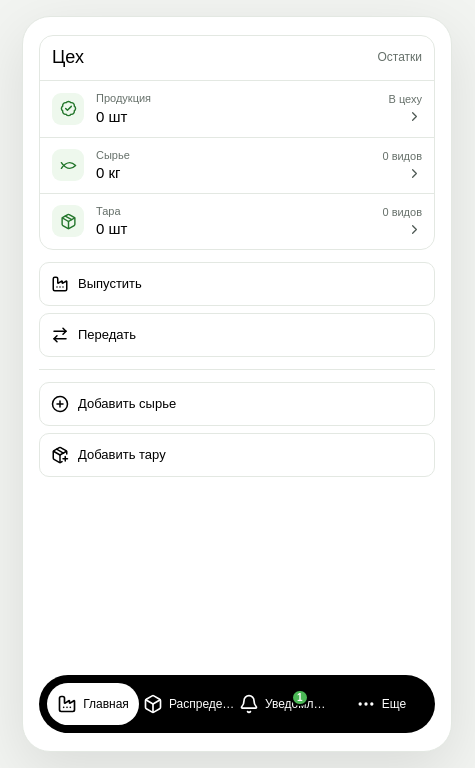
Test case: HomePage › lets production manager complete production notification
Expected: the text with class "bottom-nav-badge" reads "1", [297,692,303,702]
Click the button with aria-label "Уведомления, новых задач: 1".
click(285, 704)  # box [239,683,331,725]
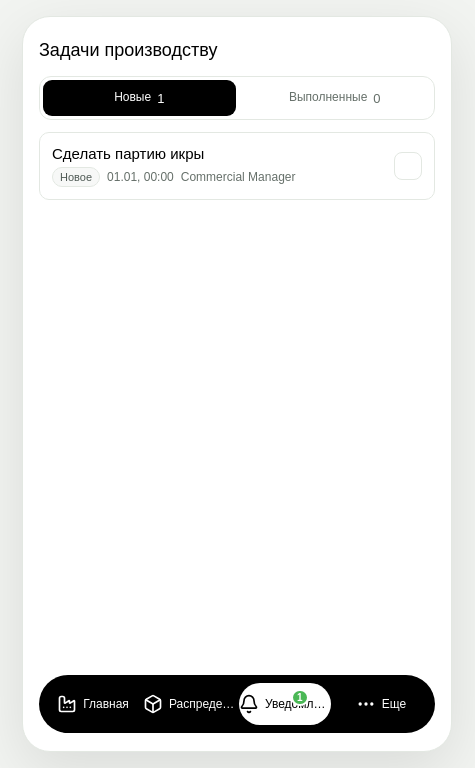
Now the heading "Задачи производству" is shown, box [39,37,217,64]
Now the text "Сделать партию икры" is shown, box [52,145,204,162]
Now the list with class "notification-ledger" is shown, box [39,132,435,200]
Click the checkbox named "Отметить задачу выполненной".
click(408, 166)  # box [394,152,422,180]
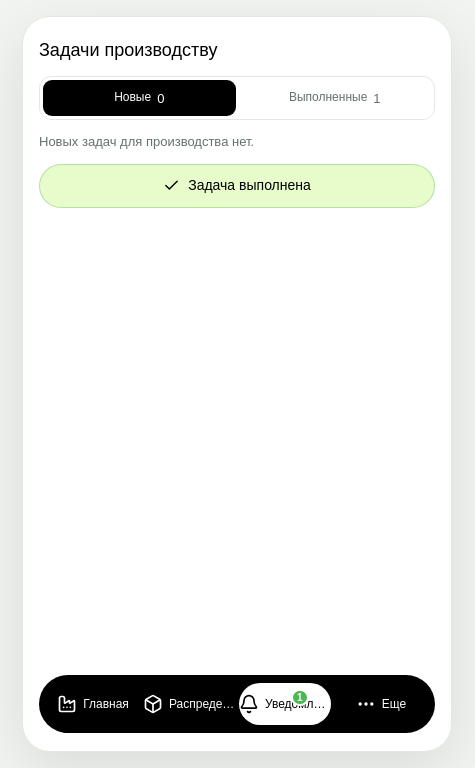
Now the text "Задача выполнена" is shown, box [39,164,435,208]
Now the text "Новых задач для производства нет." is shown, box [39,134,254,149]
Click the tab "Выполненные 1".
click(335, 98)  # box [238,80,431,116]
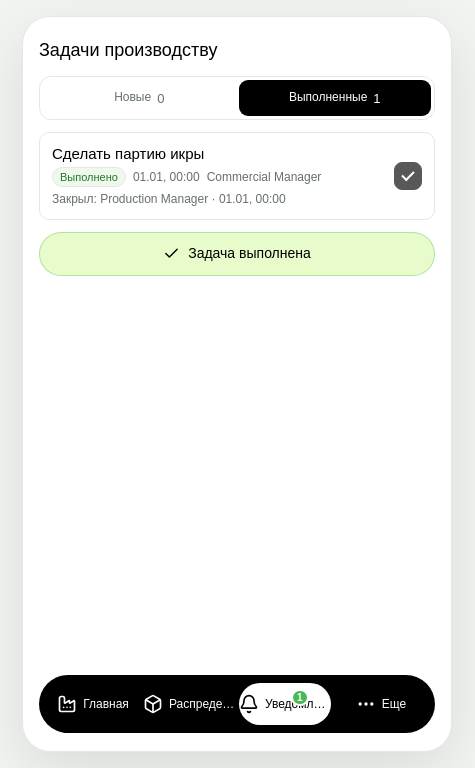
Now the text "Сделать партию икры" is shown, box [52,145,204,162]
Now the checkbox named "Задача выполнена" is checked, box [394,162,422,190]
